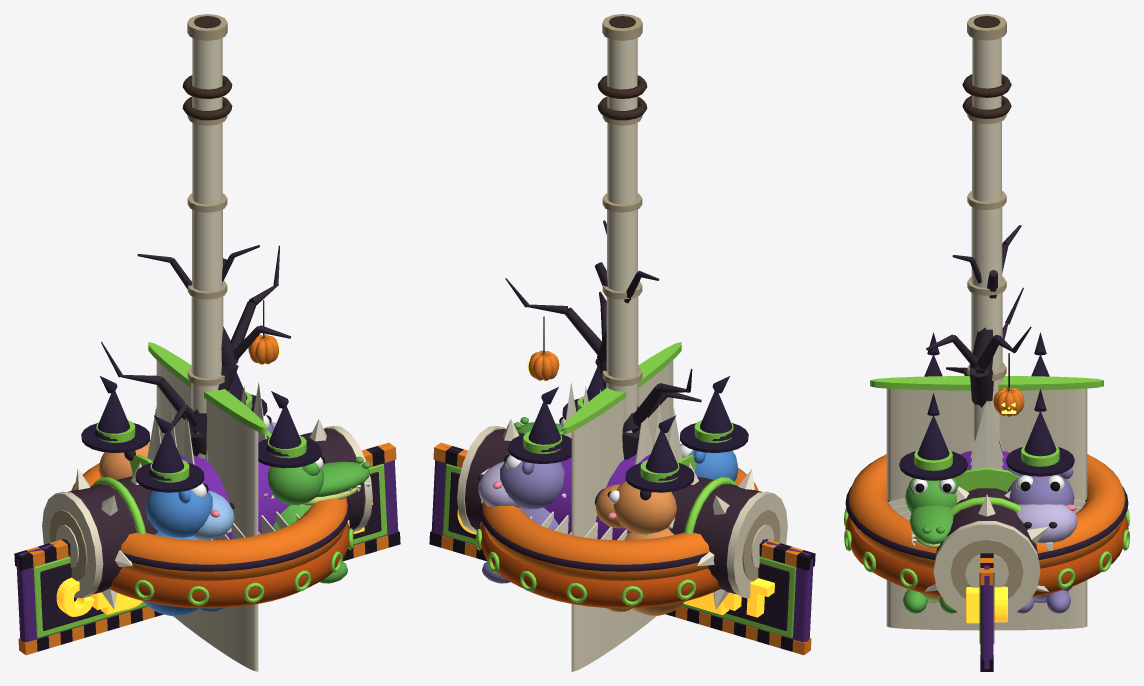
Rendered from kit.glb.
The picture shows the model from 3 angles, left to right: view 1: azimuth 30°, elevation 25°; view 2: azimuth 150°, elevation 25°; view 3: azimuth 270°, elevation 25°; orthographic projection.
Visible parts, largest first — view 1: raft, spinner, gate_post, log, finish_sign, rider_1_head, rider_3_head, tree_round, rider_0_head, gate_sign, rider_3, rider_2_head (+1 smaller); view 2: raft, spinner, gate_post, log, finish_sign, rider_2_head, rider_0_head, tree_round, rider_1_head, gate_sign, rider_3_head, rider_0 (+1 smaller); view 3: spinner, raft, gate_post, log, rider_2_head, rider_3_head, tree_round, finish_sign, gate_sign, rider_2, rider_3.
Part boxes in pixels (bbox=[...]): raft: bbox=[71, 463, 353, 608]; spinner: bbox=[129, 342, 323, 671]; gate_post: bbox=[182, 14, 232, 458]; log: bbox=[42, 419, 372, 609]; finish_sign: bbox=[14, 442, 400, 655]; rider_1_head: bbox=[135, 415, 234, 540]; rider_3_head: bbox=[258, 391, 370, 505]; tree_round: bbox=[101, 245, 290, 456]; rider_0_head: bbox=[81, 376, 150, 479]; gate_sign: bbox=[56, 502, 372, 616]; rider_3: bbox=[271, 495, 347, 583]; rider_2_head: bbox=[228, 372, 276, 434]; raft: bbox=[476, 468, 758, 608]; spinner: bbox=[506, 342, 696, 671]; gate_post: bbox=[597, 14, 647, 432]; log: bbox=[457, 419, 787, 609]; finish_sign: bbox=[429, 442, 815, 655]; rider_2_head: bbox=[478, 387, 571, 509]; rider_0_head: bbox=[594, 415, 694, 534]; tree_round: bbox=[505, 220, 701, 459]; rider_1_head: bbox=[680, 376, 748, 481]; gate_sign: bbox=[457, 509, 774, 617]; rider_3_head: bbox=[514, 358, 604, 433]; rider_0: bbox=[606, 528, 684, 615]; spinner: bbox=[859, 376, 1114, 630]; raft: bbox=[844, 454, 1129, 596]; gate_post: bbox=[962, 14, 1011, 441]; log: bbox=[925, 486, 1048, 615]; rider_2_head: bbox=[1006, 389, 1077, 550]; rider_3_head: bbox=[899, 393, 967, 548]; tree_round: bbox=[926, 225, 1031, 450]; finish_sign: bbox=[979, 553, 994, 671]; gate_sign: bbox=[966, 586, 1007, 623]; rider_2: bbox=[1017, 586, 1072, 613]; rider_3: bbox=[903, 588, 956, 613].
Bounding box in the file's own units: 6.47 × 10 × 4.28.
